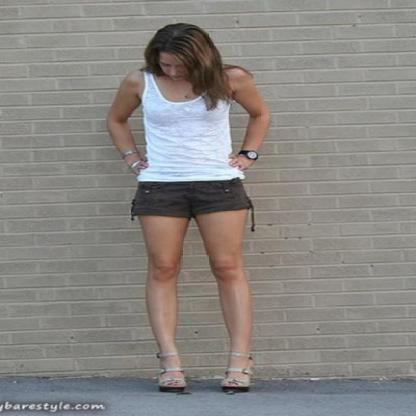shirt: (137, 75, 249, 181)
shoe: (158, 386, 249, 394)
shorts: (130, 177, 253, 222)
